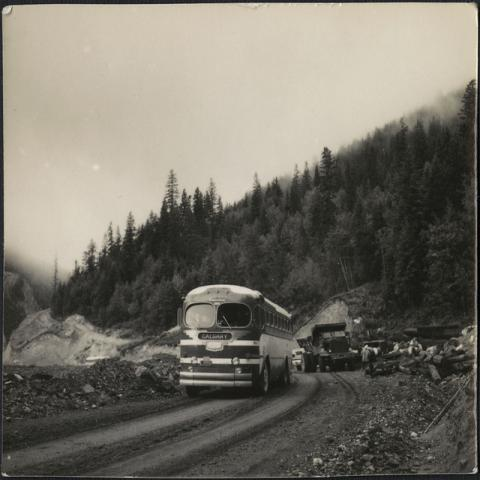bus: (172, 286, 292, 394)
truck: (297, 322, 356, 374)
